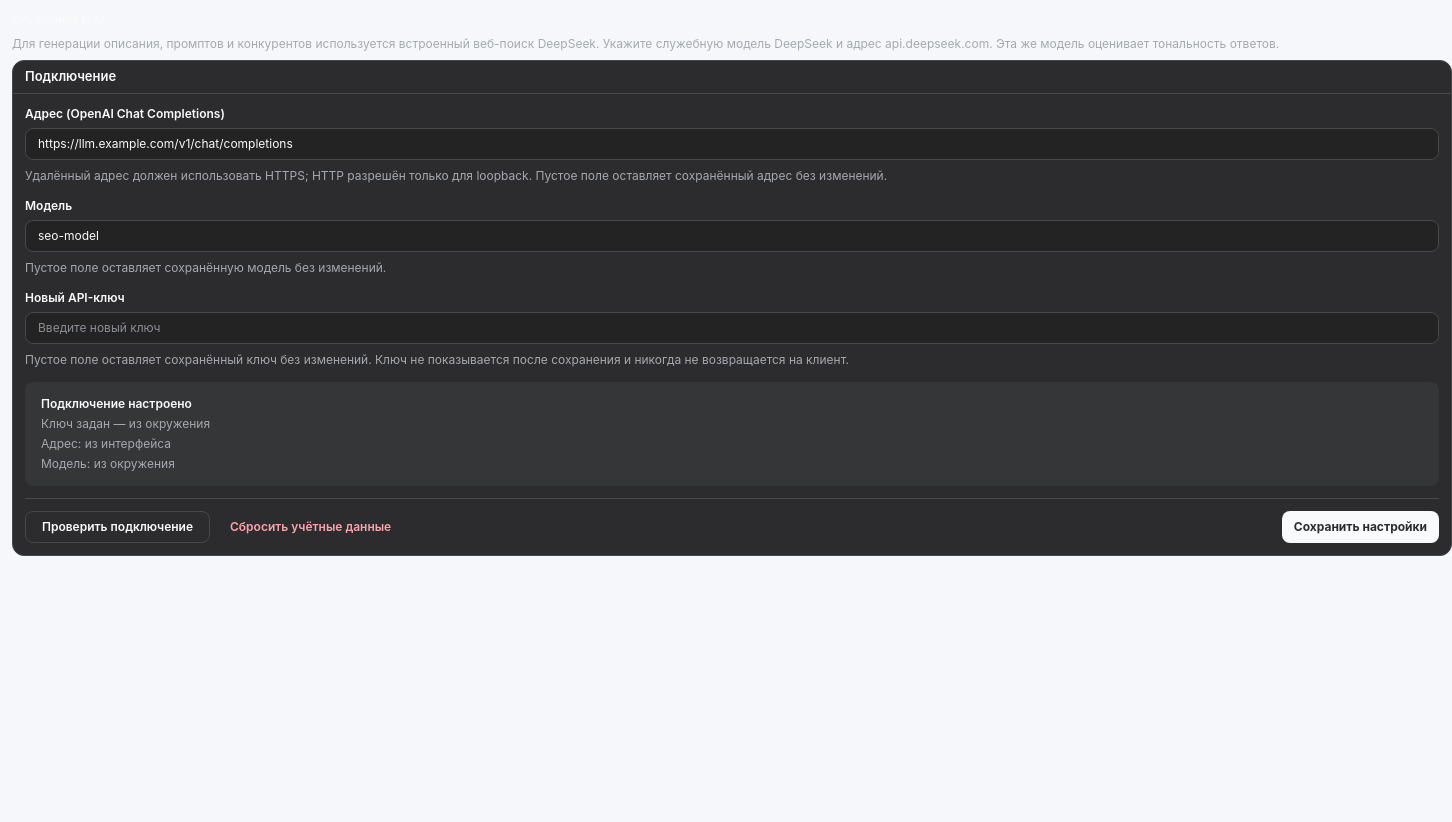
Test: SeoSettingsPanel › probes the connection with a bodyless POST and shows the model
Click the button "Проверить подключение".
click(118, 526)  # box [25, 510, 210, 542]
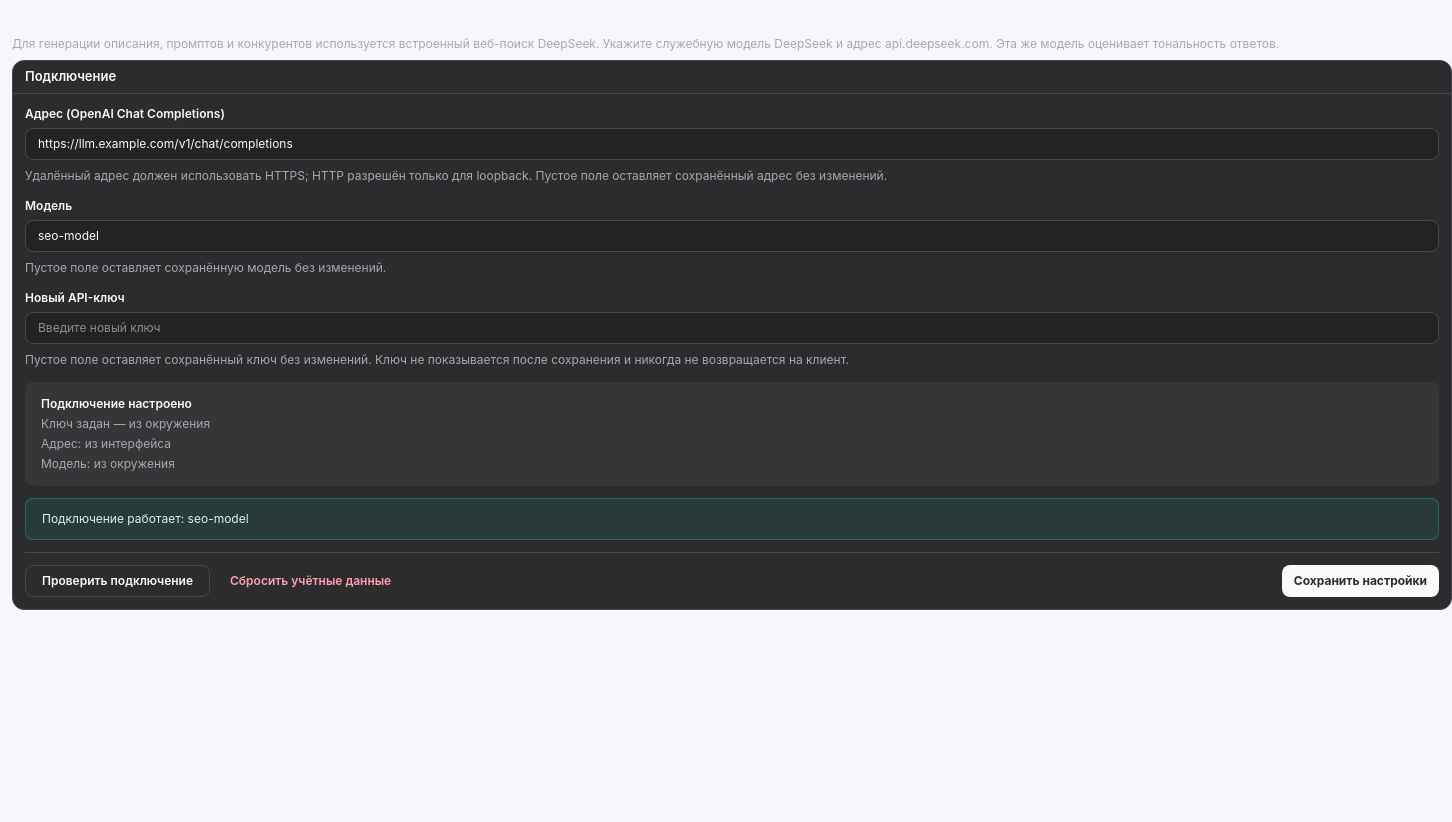
Expected: the message shows "Подключение работает", [42, 510, 249, 526]
Expected: the message shows "seo-model", [42, 510, 249, 526]
